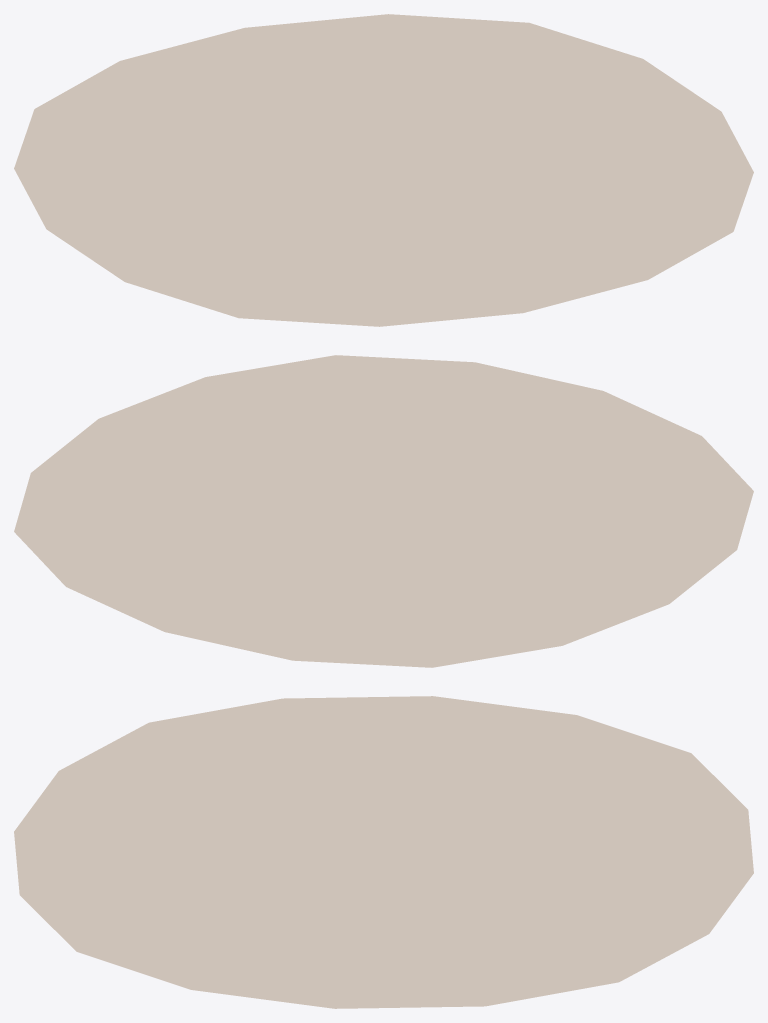
The model's file is hugo_min.glb.
3 views of the same model, one above another, from view 1: azimuth 30°, elevation 25°; view 2: azimuth 150°, elevation 25°; view 3: azimuth 270°, elevation 25° (orthographic). The views are drawn at different scales.
Visible parts, largest first — view 1: Plane; view 2: Plane; view 3: Plane.
Boxes of the visible parts, left/top/right/bottom form: Plane: left=14, top=14, right=753, bottom=326; Plane: left=14, top=355, right=753, bottom=667; Plane: left=14, top=696, right=753, bottom=1008.
Bounding box in the file's own units: 27.34 × 0 × 27.34.
